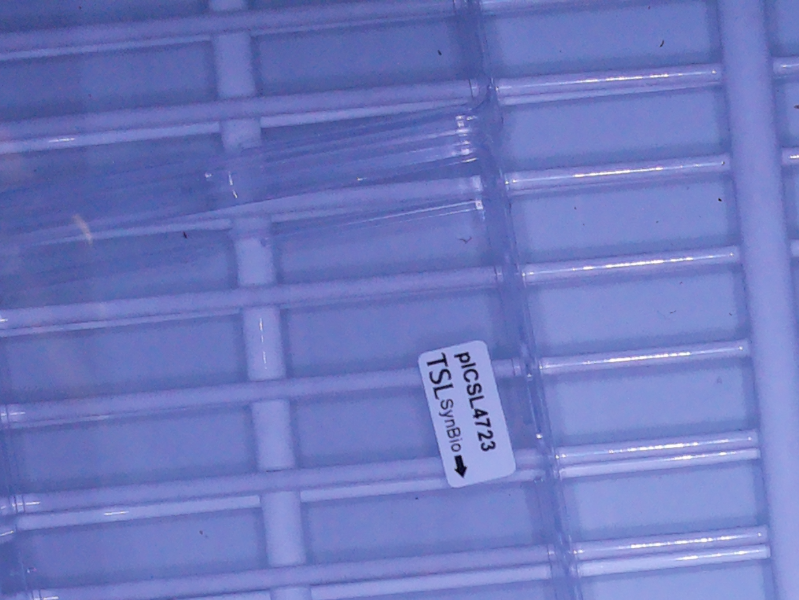plate: (1, 2, 587, 600)
